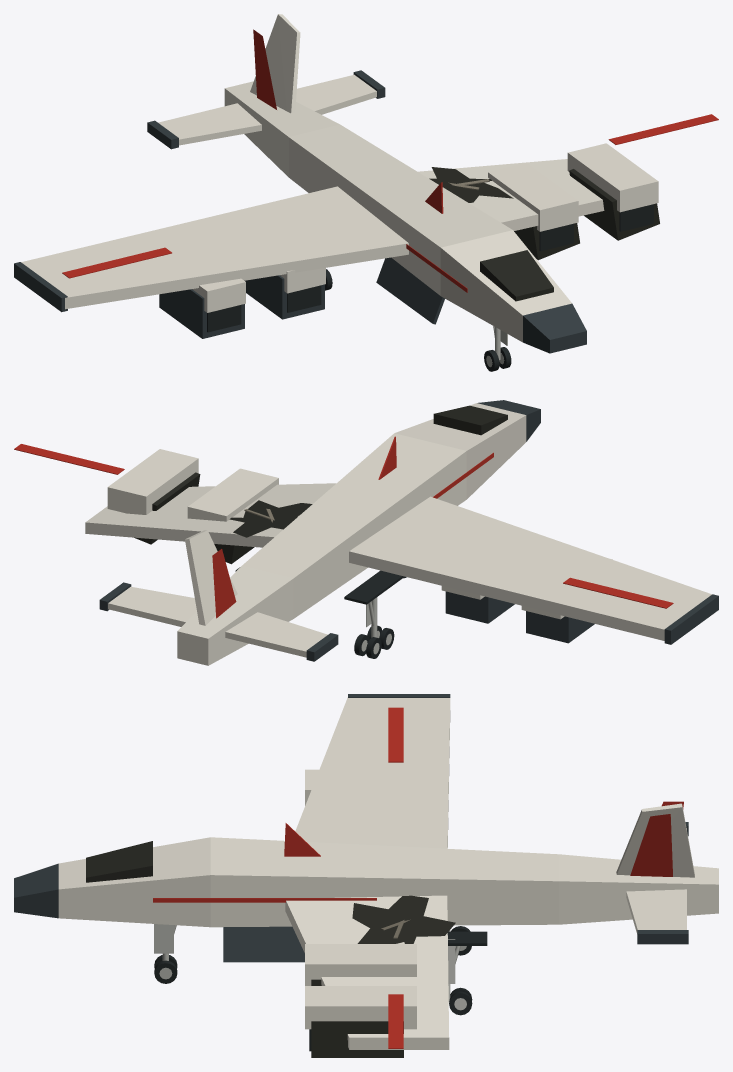
The picture shows the model from 3 angles, top to bottom: view 1: azimuth 30°, elevation 25°; view 2: azimuth 150°, elevation 25°; view 3: azimuth 270°, elevation 25°; orthographic projection. The views are drawn at different scales.
Visible parts, largest first — view 1: bomber-damaged-fleet-armor, bomber-damaged-fleet-machine, bomber-damaged-fleet-damage-charred, bomber-damaged-fleet-red, bomber-damaged-fleet-rubber; view 2: bomber-damaged-fleet-armor, bomber-damaged-fleet-machine, bomber-damaged-fleet-damage-charred, bomber-damaged-fleet-red, bomber-damaged-fleet-rubber; view 3: bomber-damaged-fleet-armor, bomber-damaged-fleet-damage-charred, bomber-damaged-fleet-machine, bomber-damaged-fleet-red, bomber-damaged-fleet-rubber, landing-gear-nose-fleet-edge.
Boxes of the visible parts, x1=… form: bomber-damaged-fleet-armor: x1=21, y1=14, x2=658, y2=342; bomber-damaged-fleet-machine: x1=14, y1=70, x2=586, y2=353; bomber-damaged-fleet-damage-charred: x1=429, y1=167, x2=659, y2=301; bomber-damaged-fleet-red: x1=62, y1=29, x2=718, y2=292; bomber-damaged-fleet-rubber: x1=207, y1=204, x2=653, y2=332; bomber-damaged-fleet-armor: x1=85, y1=403, x2=711, y2=665; bomber-damaged-fleet-machine: x1=99, y1=400, x2=718, y2=661; bomber-damaged-fleet-damage-charred: x1=134, y1=405, x2=507, y2=564; bomber-damaged-fleet-red: x1=14, y1=436, x2=673, y2=618; bomber-damaged-fleet-rubber: x1=235, y1=567, x2=403, y2=604; bomber-damaged-fleet-armor: x1=58, y1=697, x2=718, y2=1049; bomber-damaged-fleet-damage-charred: x1=86, y1=841, x2=455, y2=1057; bomber-damaged-fleet-machine: x1=14, y1=694, x2=688, y2=962; bomber-damaged-fleet-red: x1=153, y1=707, x2=683, y2=1048; bomber-damaged-fleet-rubber: x1=309, y1=931, x2=487, y2=1051; landing-gear-nose-fleet-edge: x1=154, y1=924, x2=176, y2=960.
Bounding box in the file's own units: 150 × 37.06 × 126.
